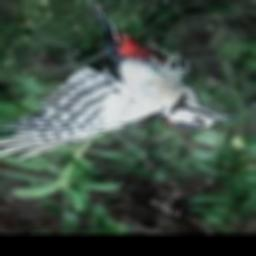Woodpecker: (0, 3, 240, 162)
